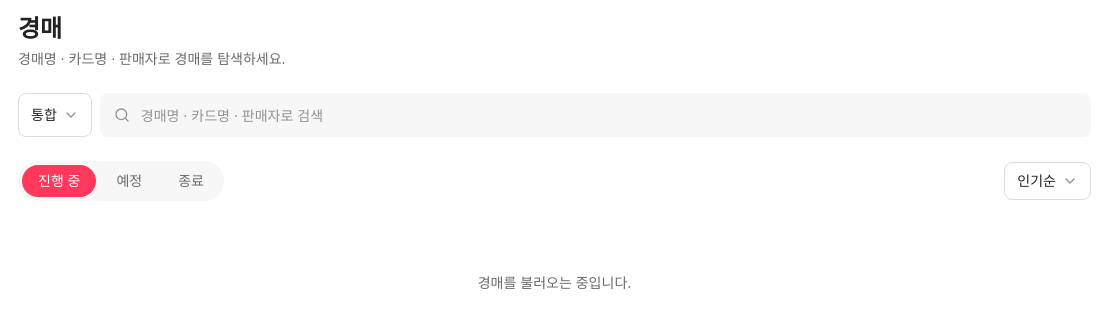
Test: 경매 목록 라우트 › 경매명 선택 시 AUCTION_TITLE 조건으로 조회하고 안내 문구를 바꾼다
The width and height of the screenshot is (1108, 325).
Press Enter in the button "통합", box [18,93,92,137]
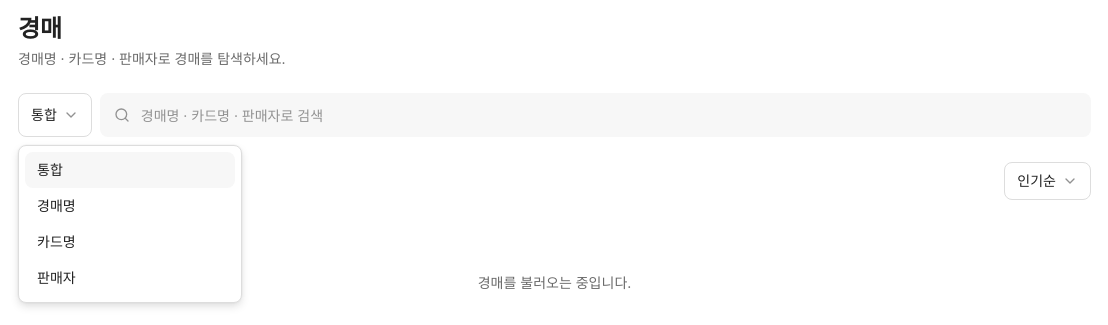
Click the menu item "경매명" at (56, 206), box [37,197,76,214]
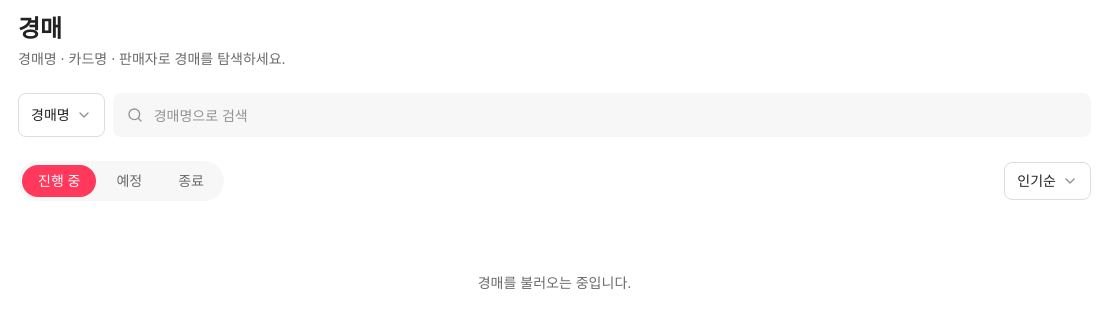
expect the field with placeholder "경매명으로 검색" is shown: met, box [113,93,1091,137]
